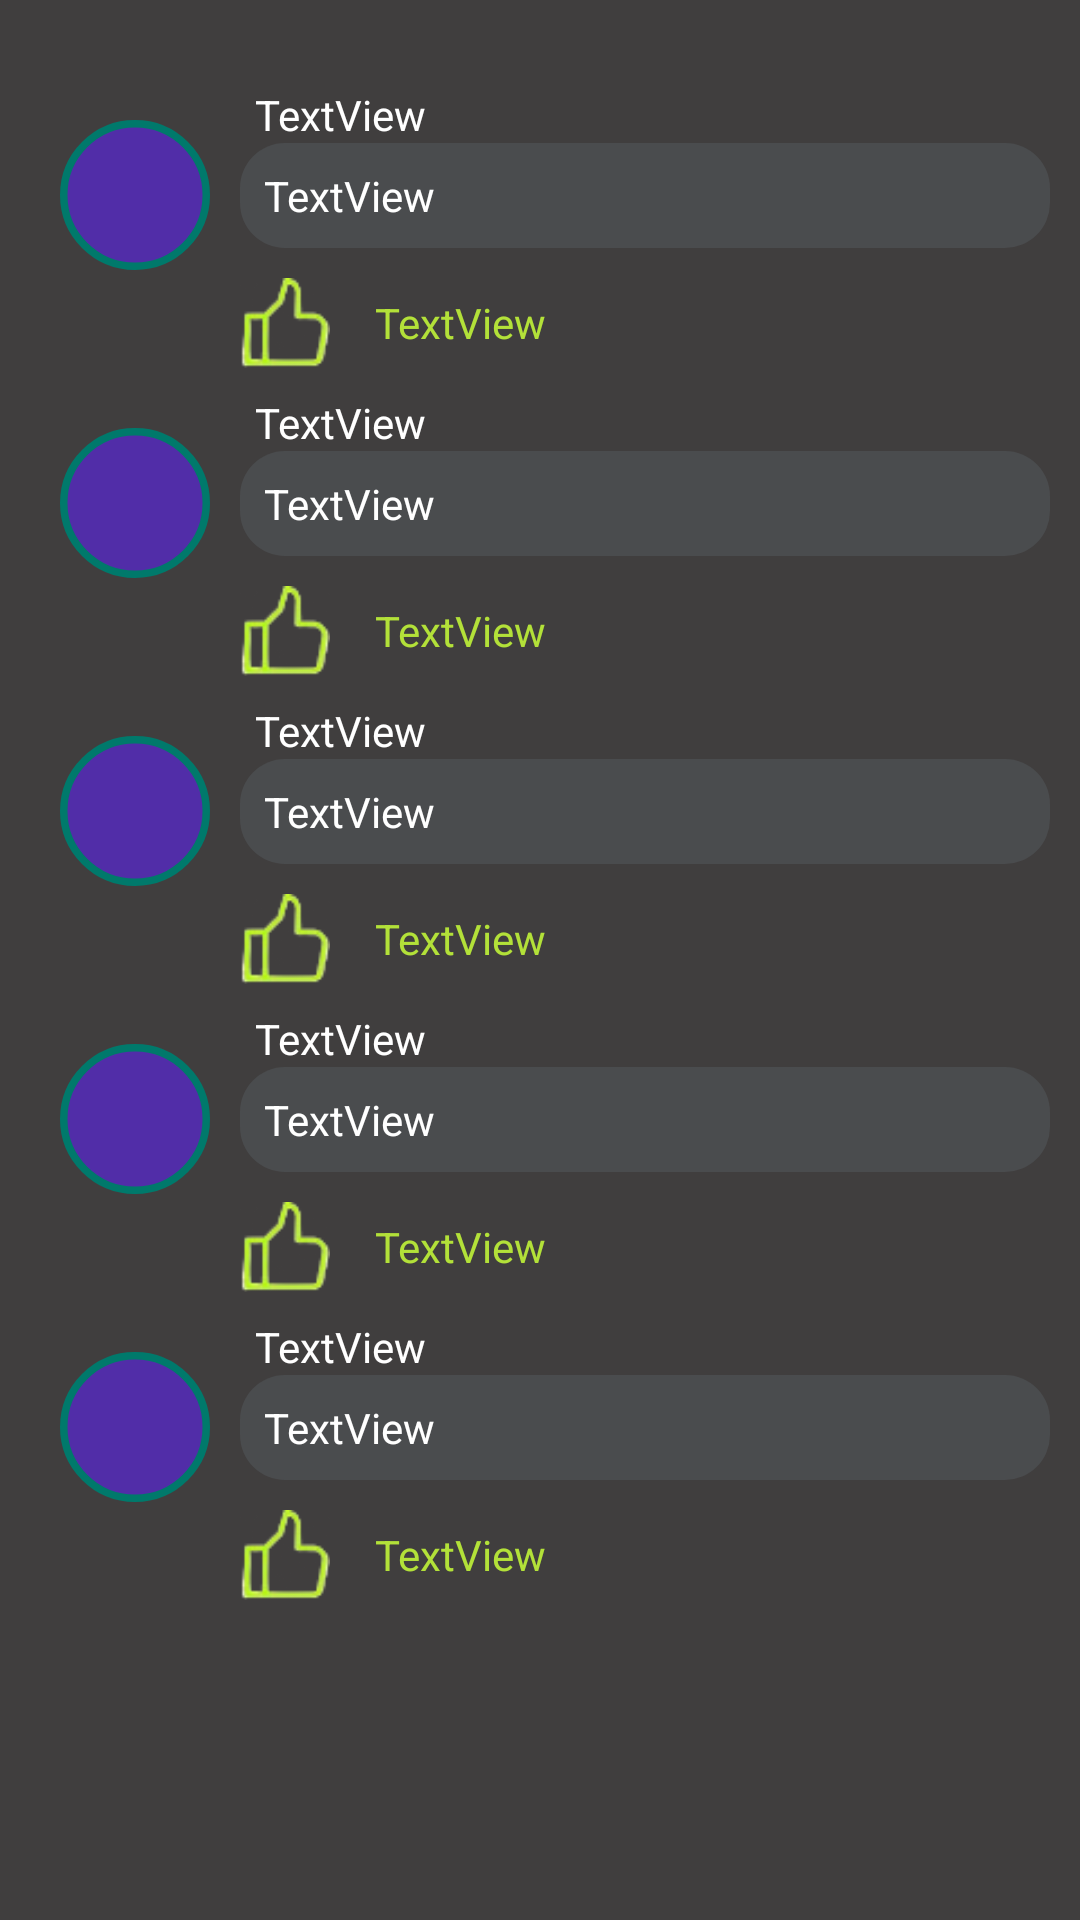

Locate icon controls on the screen. Image size 1080×1920, boxes as (x1, y1, x2, y2).
like: (241, 278, 330, 367), (241, 586, 330, 675), (241, 894, 330, 983), (241, 1202, 330, 1291), (241, 1510, 330, 1599)
